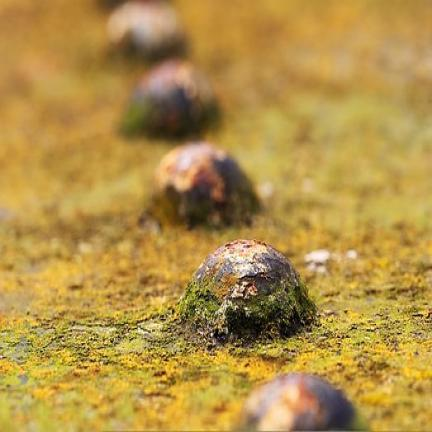karat: (180, 239, 315, 340), (149, 142, 260, 226)
